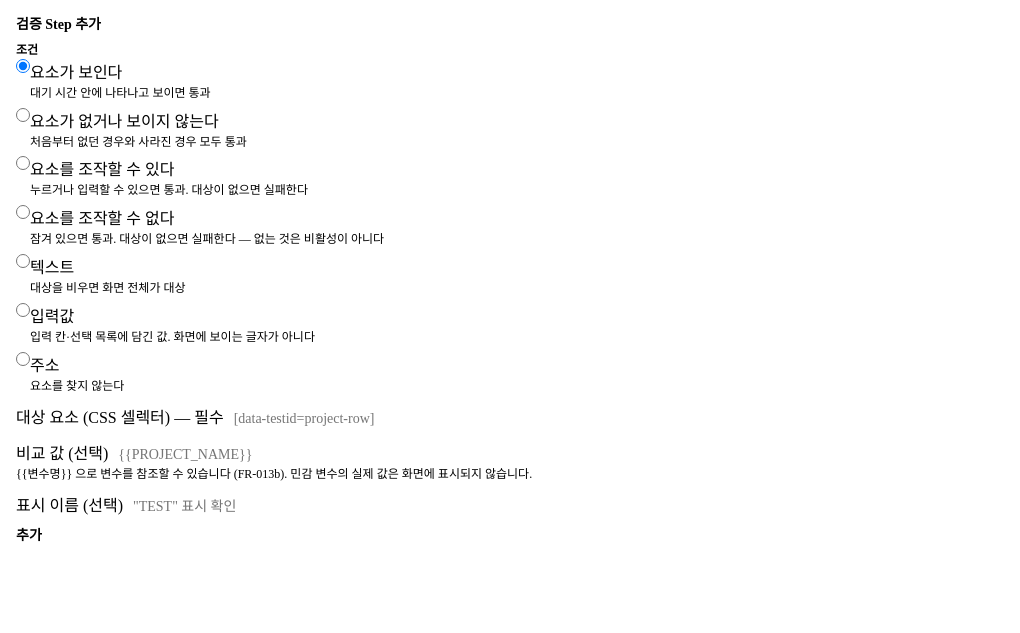
부정 비교의 안내 (FR-026) › 부정 비교를 고르면 나타난다
Click the radio button labelled "텍스트". click: {"x": 23, "y": 261}
box: [16,254,30,268]
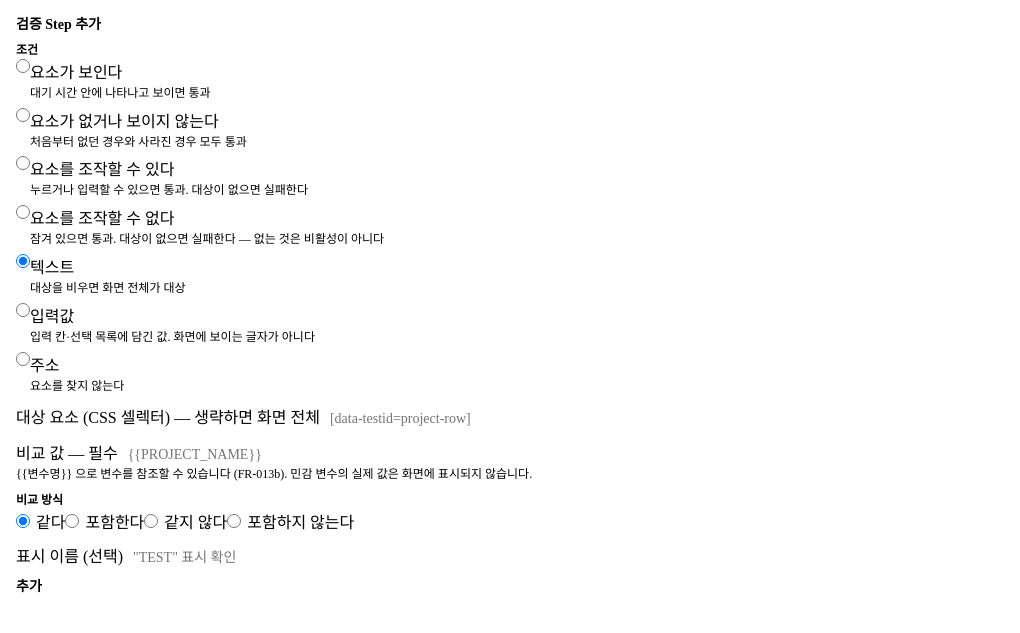
Click the radio button labelled "포함하지 않는다". click: {"x": 234, "y": 521}
box: [227,514,241,528]
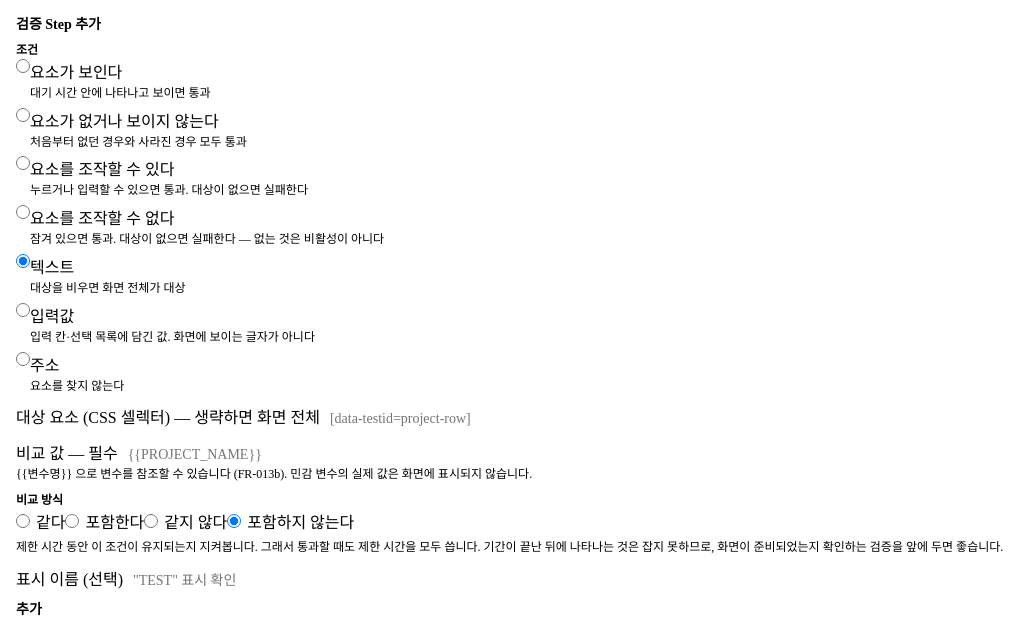
Result: the text with test id "negated-match-note" is shown at [16,540,1003,554]
